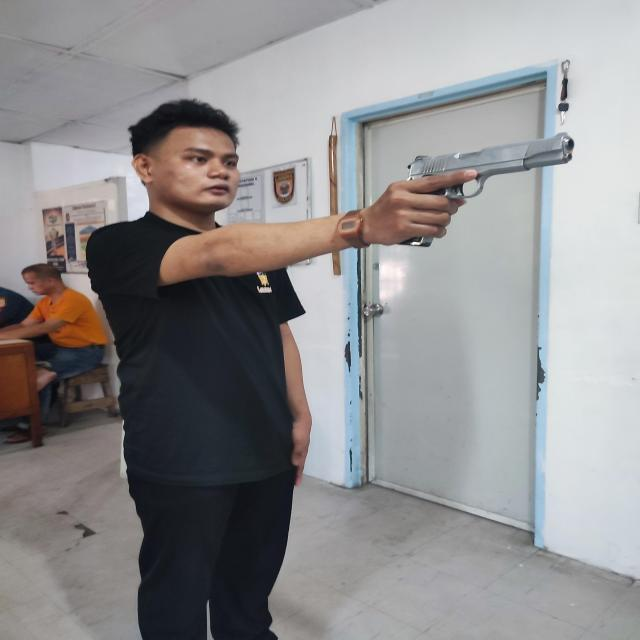pistol: (397, 132, 574, 246)
